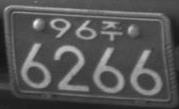2: (53, 43, 89, 92)
6: (91, 46, 125, 94), (129, 49, 163, 96), (19, 42, 52, 89), (75, 19, 97, 40)
9: (49, 17, 71, 38)
주: (100, 19, 123, 41)
